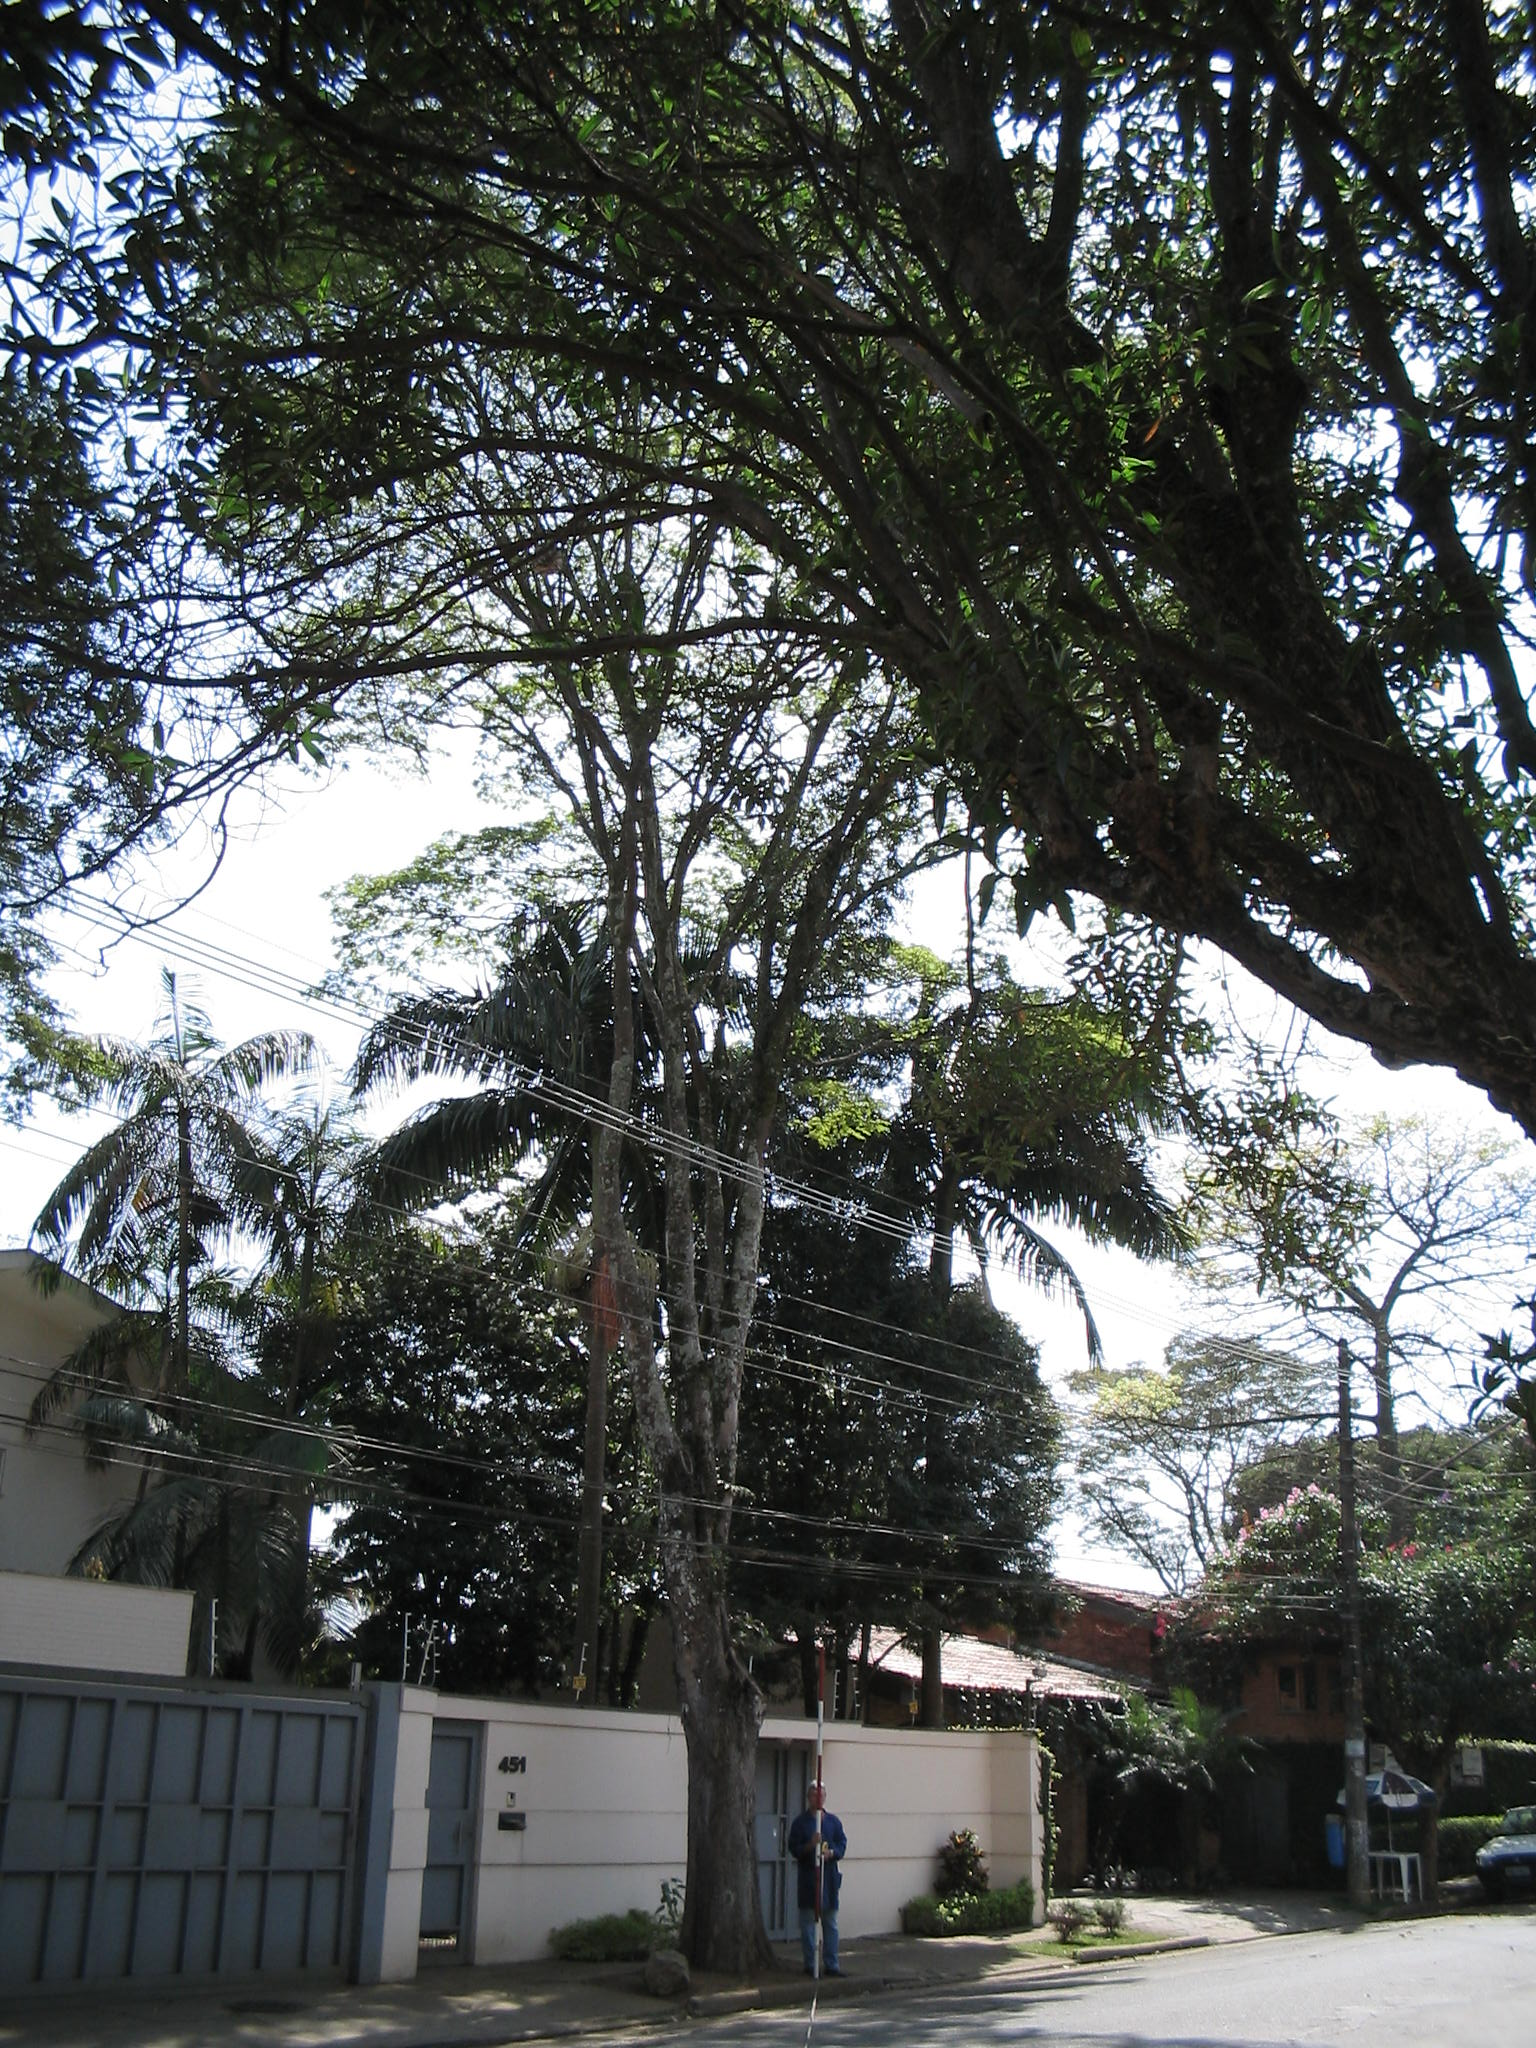crown: (152, 18, 1405, 797)
stem: (641, 1592, 786, 1967)
stick: (800, 1645, 833, 1979)
tree: (145, 16, 1413, 1979)
